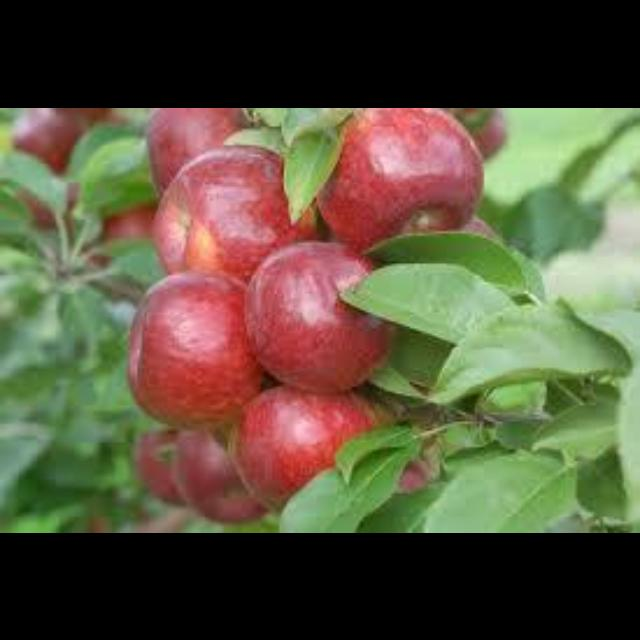apple: (317, 107, 482, 249), (151, 144, 314, 279), (244, 244, 389, 391), (128, 272, 261, 426), (233, 386, 375, 507), (147, 107, 242, 191)
